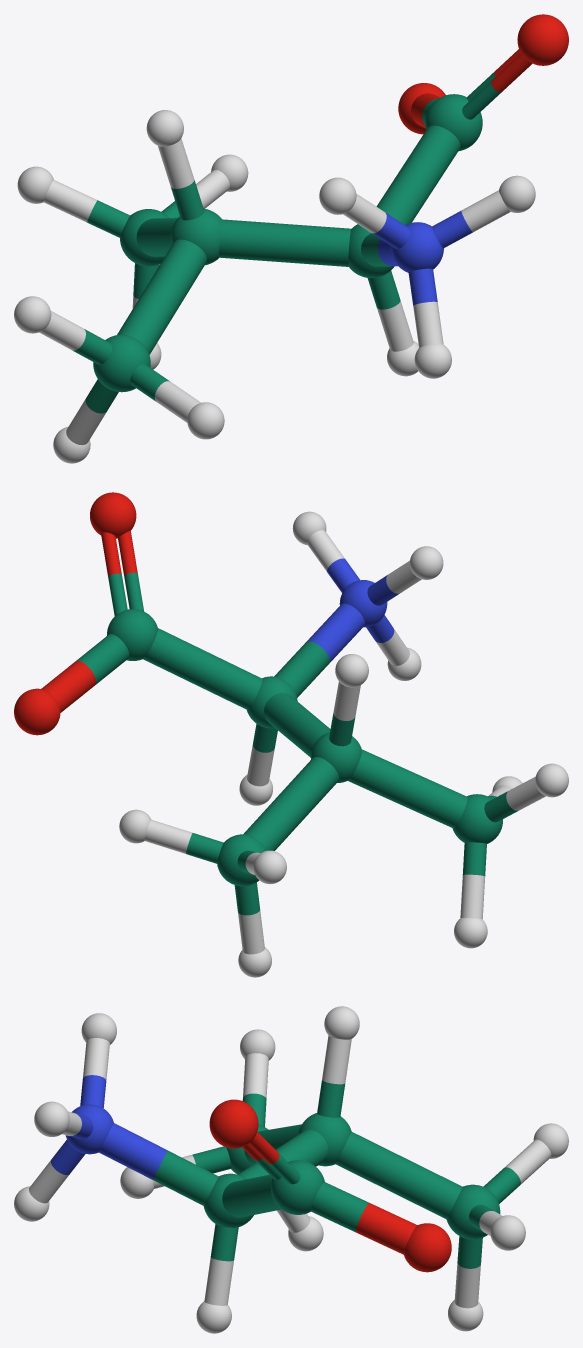
Rendered from VAL.PDB.glb.
3 views of the same model, one above another, from view 1: azimuth 30°, elevation 25°; view 2: azimuth 150°, elevation 25°; view 3: azimuth 270°, elevation 25° (orthographic). The views are drawn at different scales.
Size of the model in its own units: 5.48 by 3.67 by 5.16.
